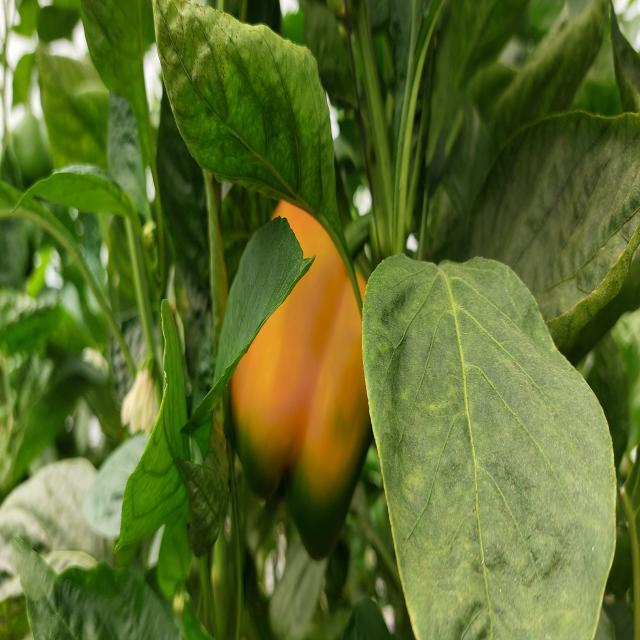GreenishYellow--Can-be-Harvested: (217, 185, 400, 558)
